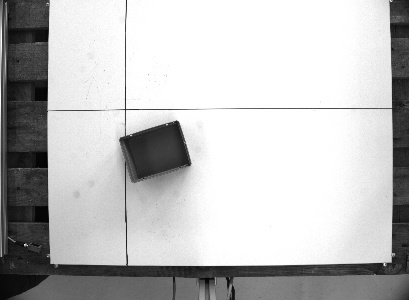klts: (117, 117, 194, 185)
